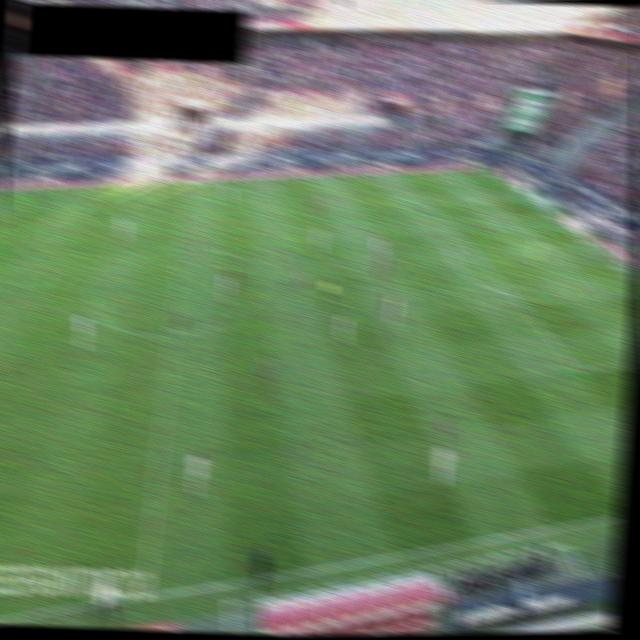bigarea_bottom_inner: (567, 361, 589, 379)
bigarea_top_inner: (420, 196, 438, 211)
bigarea_top_outter: (515, 193, 534, 207)
bottom_arc_area_intersection: (502, 288, 520, 302)
corner: (479, 166, 497, 179)
halfcircle_bottom: (163, 326, 181, 342)
halfcircle_top: (172, 241, 192, 257)
midline_bottom_intersection: (130, 584, 161, 611)
midline_top_intersection: (179, 177, 198, 191)
smallarea_bottom_inner: (599, 290, 617, 304)
smallarea_top_inner: (519, 222, 538, 235)
smallarea_top_outter: (553, 221, 571, 234)
top_arc_area_intersection: (452, 231, 471, 246)
